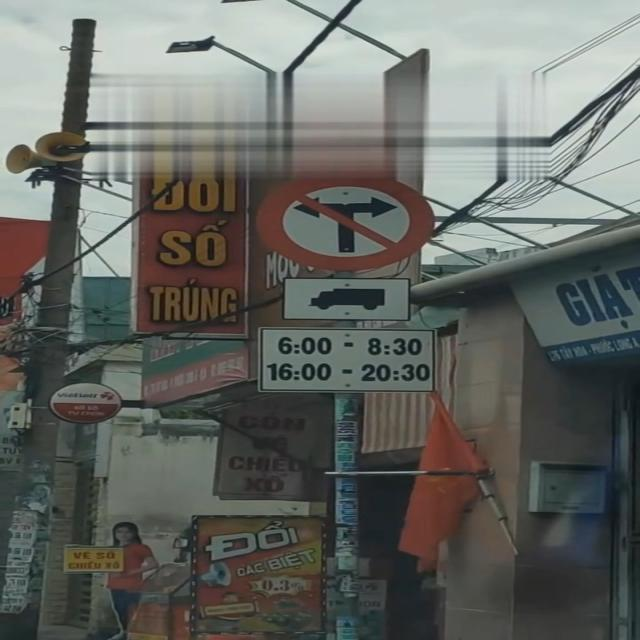137-cam-re-trai-va-re-phai: (252, 165, 430, 270)
